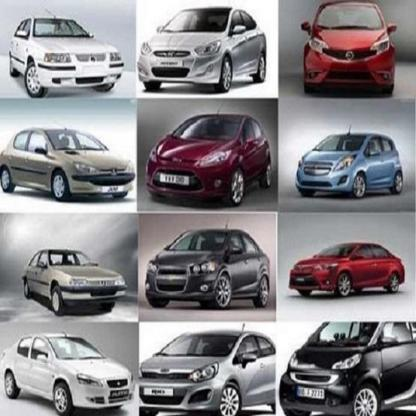Car: (279, 323, 416, 414), (135, 330, 275, 416), (137, 7, 268, 94), (144, 225, 274, 311), (143, 116, 272, 202), (6, 116, 133, 202), (0, 335, 133, 416), (285, 228, 412, 311), (15, 13, 130, 92), (290, 126, 404, 198), (301, 5, 395, 92), (24, 252, 127, 304)
